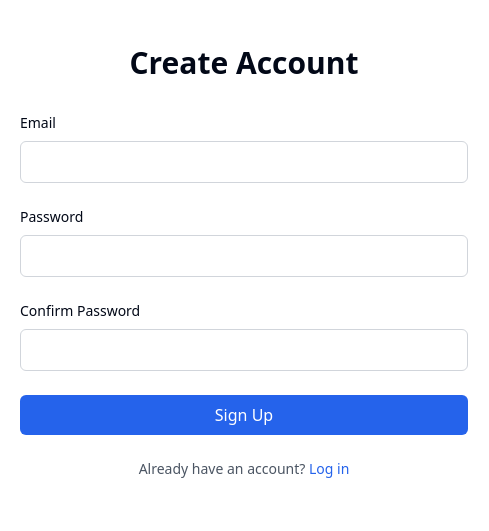
Test case: RegisterPage › validates required fields
Note: Try to submit without filling fields
Click the button "Sign Up": [244, 415] box x1=20 y1=395 x2=468 y2=435
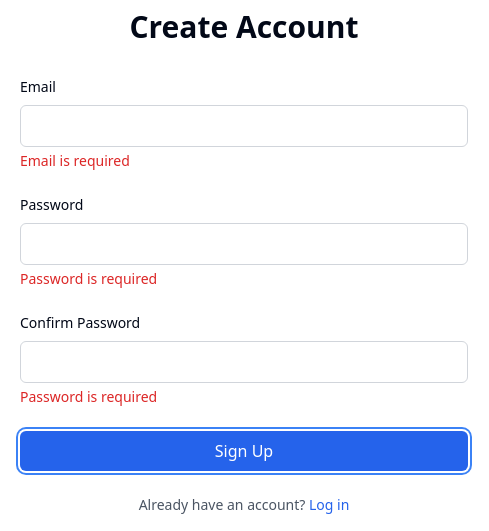
Result: the text "Email is required" is shown at x1=20 y1=151 x2=130 y2=170
Result: the text "Password is required" is shown 2 times at x1=20 y1=269 x2=157 y2=288; x1=20 y1=387 x2=157 y2=406
